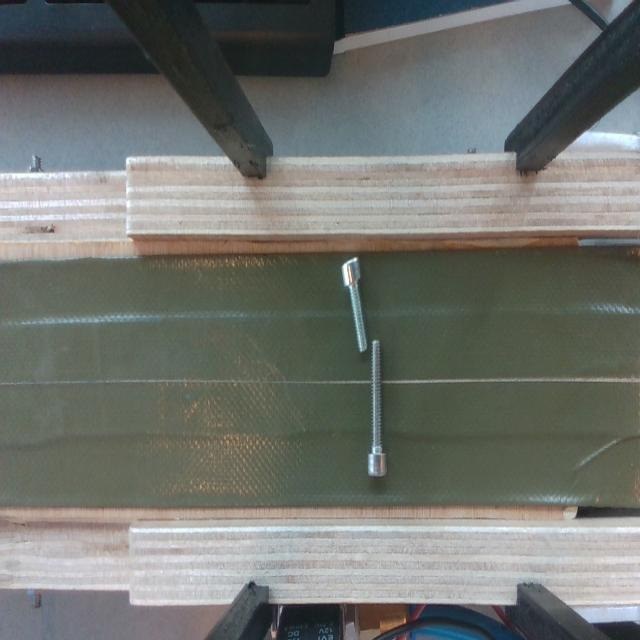Bolt: (341, 257, 368, 351), (368, 340, 386, 476)
